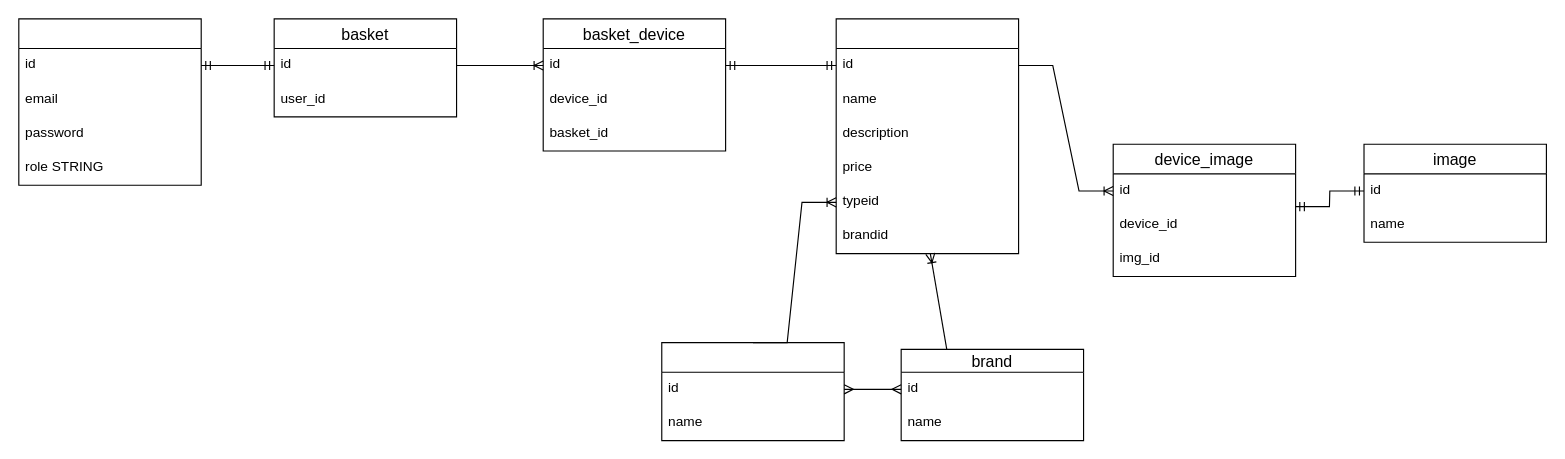
Image size: 1565x459. Some labels were removed from this diagram. The shapes that lost their labels are listed below. From the top down, each one's box as (x1, y1, x2, y2) in pixels, then its label:
(18, 18, 201, 185): User
(835, 18, 1019, 254): device
(661, 341, 844, 441): type
